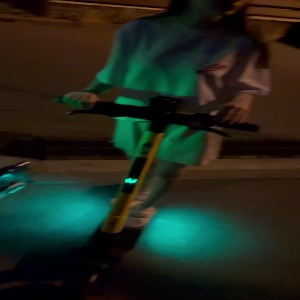human on a scooter: (49, 1, 271, 300)
